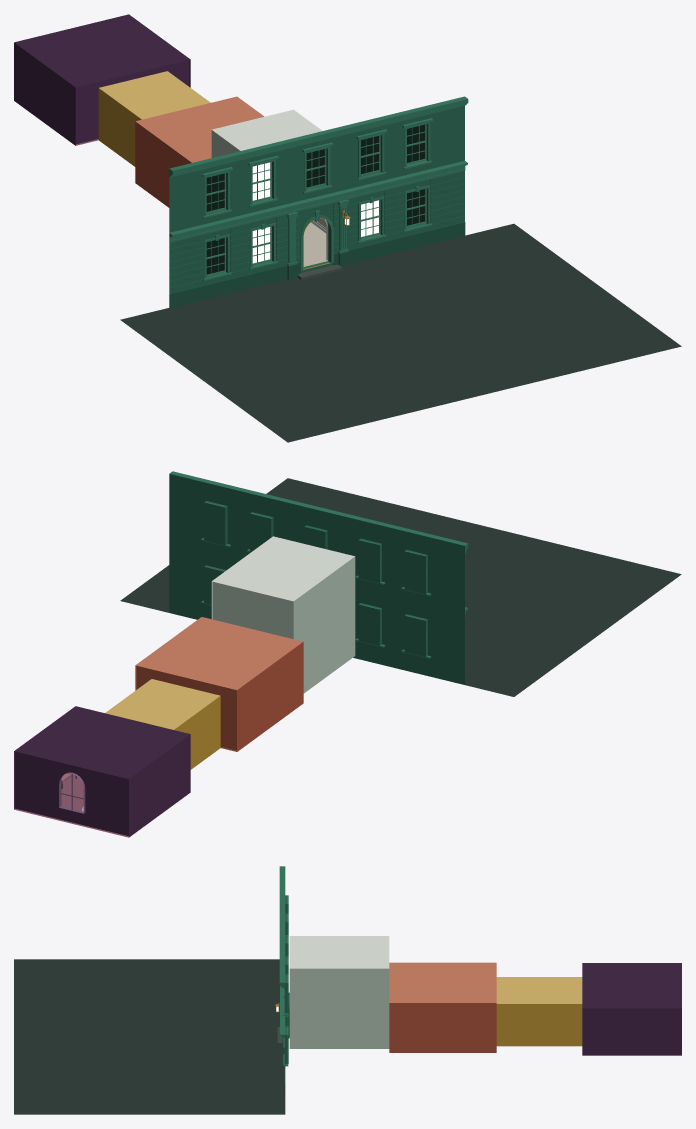
Rendered from house.glb.
The picture shows the model from 3 angles, top to bottom: view 1: azimuth 30°, elevation 25°; view 2: azimuth 150°, elevation 25°; view 3: azimuth 270°, elevation 25°; orthographic projection. The views are drawn at different scales.
Visible parts, largest first — view 1: ext_shell, ext_detail, room_3, room_1, room_2, room_0; view 2: ext_shell, room_3, room_0, room_1, room_2, ext_detail; view 3: ext_shell, room_0, room_1, room_3, room_2, ext_detail.
Boxes of the visible parts, box(x1,y1,x2,y2) form: ext_shell: box(120, 105, 681, 442); ext_detail: box(169, 96, 468, 293); room_3: box(14, 14, 190, 145); room_1: box(135, 96, 264, 207); room_2: box(98, 71, 210, 166); room_0: box(211, 109, 328, 266); ext_shell: box(120, 474, 681, 696); room_3: box(14, 706, 190, 837); room_0: box(211, 536, 355, 693); room_1: box(135, 617, 303, 751); room_2: box(105, 679, 220, 769); ext_detail: box(169, 471, 468, 658); ext_shell: box(14, 895, 289, 1114); room_0: box(289, 936, 389, 1048); room_1: box(389, 962, 496, 1052); room_3: box(582, 963, 681, 1055); room_2: box(496, 977, 582, 1046); ext_detail: box(275, 866, 288, 1083).
Bounding box in the file's own units: 24 × 8.1 × 43.6.
